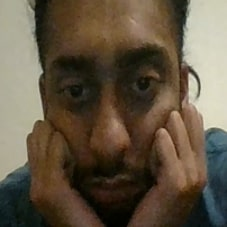drowsy: (24, 50, 210, 224)
